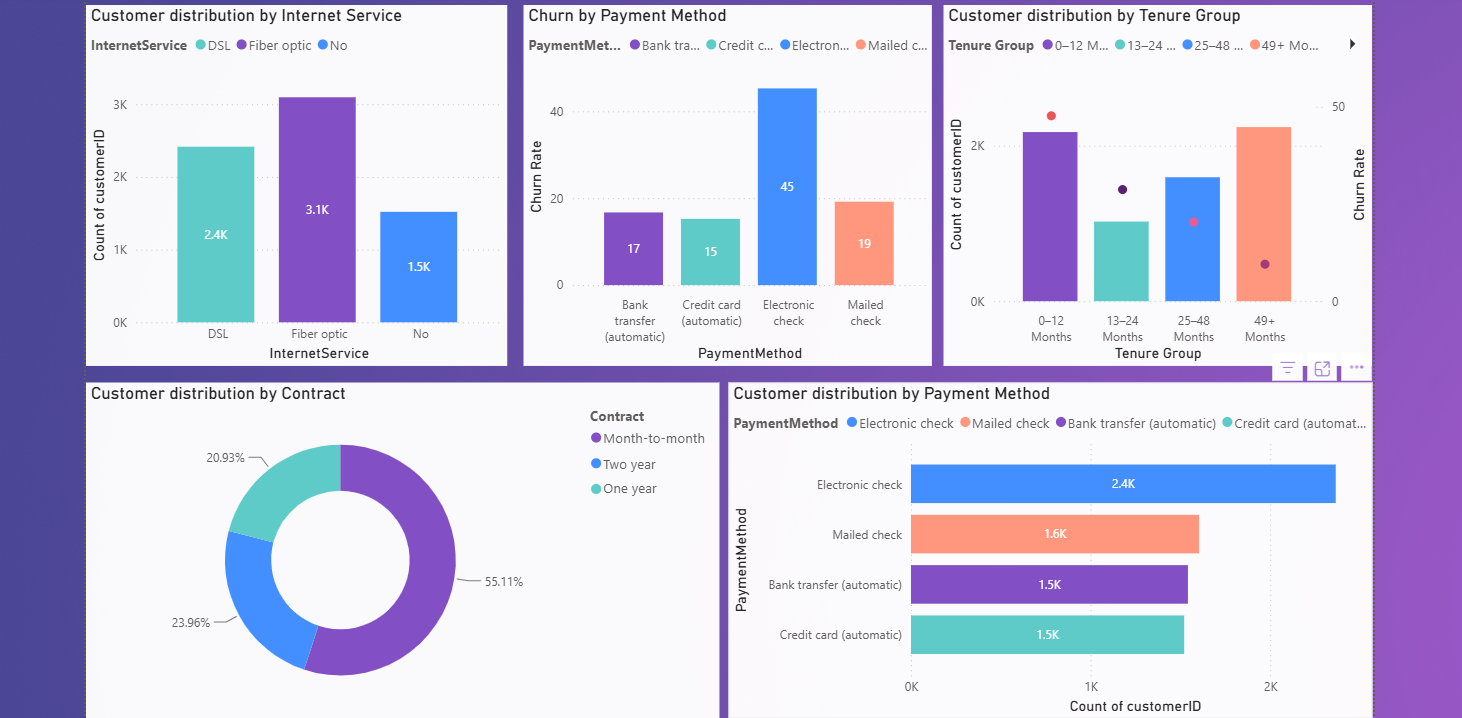

The dashboard page shown, as its layout file describes it:
{"tool":"powerbi","page":{"name":"Customer Analysis","canvas":[1280,720],"ordinal":1},"visuals":[{"type":"columnChart","title":"Customer distribution by Internet Service","fields":{"Category":["telco churn.InternetService","telco churn.Contract"],"Y":["telco churn.Count of customerID"],"Series":["telco churn.InternetService"]},"box":[0,10,419.2,359.5],"z":0},{"type":"lineStackedColumnComboChart","title":"Customer distribution by Tenure Group","fields":{"Category":["telco churn.Tenure Group"],"Y":["telco churn.Count of customerID"],"Y2":["telco churn.Churn Rate"],"Series":["telco churn.Tenure Group"]},"box":[853.4,10,426.7,359.5],"z":1000},{"type":"barChart","title":"Customer distribution by Payment Method","fields":{"Category":["telco churn.PaymentMethod"],"Y":["telco churn.Count of customerID"],"Series":["telco churn.PaymentMethod"]},"box":[639.4,385.6,640.6,334.6],"z":2000},{"type":"donutChart","title":"Customer distribution by Contract","fields":{"Category":["telco churn.Contract"],"Y":["telco churn.Count of customerID"]},"box":[0,385.6,630.7,334.6],"z":3000},{"type":"columnChart","title":"Churn by Payment Method","fields":{"Category":["telco churn.PaymentMethod","telco churn.Contract"],"Y":["telco churn.Churn Rate"],"Series":["telco churn.PaymentMethod"]},"box":[435.4,10,406.8,359.5],"z":4000}]}

Visuals, with their boxes in screenshot pixels (x1, y1, x2, y2):
"Customer distribution by Internet Service" columnChart: 80, 0, 508, 366
"Customer distribution by Tenure Group" lineStackedColumnComboChart: 952, 0, 1388, 366
"Customer distribution by Payment Method" barChart: 733, 383, 1388, 717
"Customer distribution by Contract" donutChart: 80, 383, 724, 717
"Churn by Payment Method" columnChart: 525, 0, 941, 366
